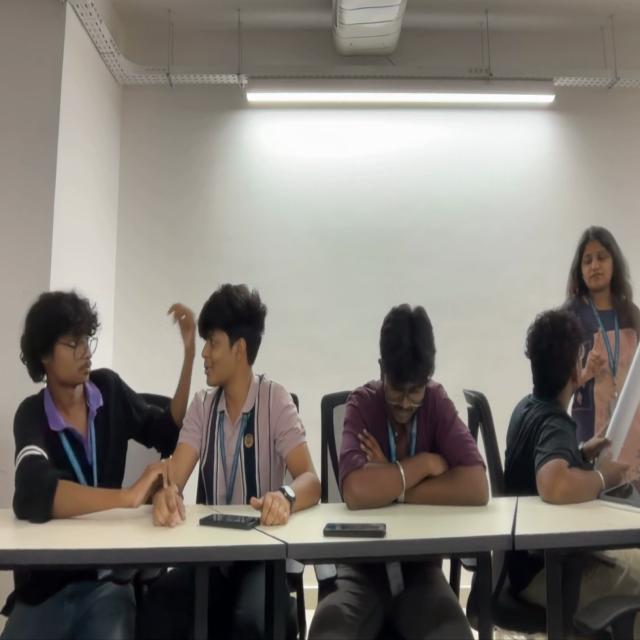Isolated: (338, 298, 490, 506)
socializing: (13, 274, 320, 524), (506, 225, 640, 504)
